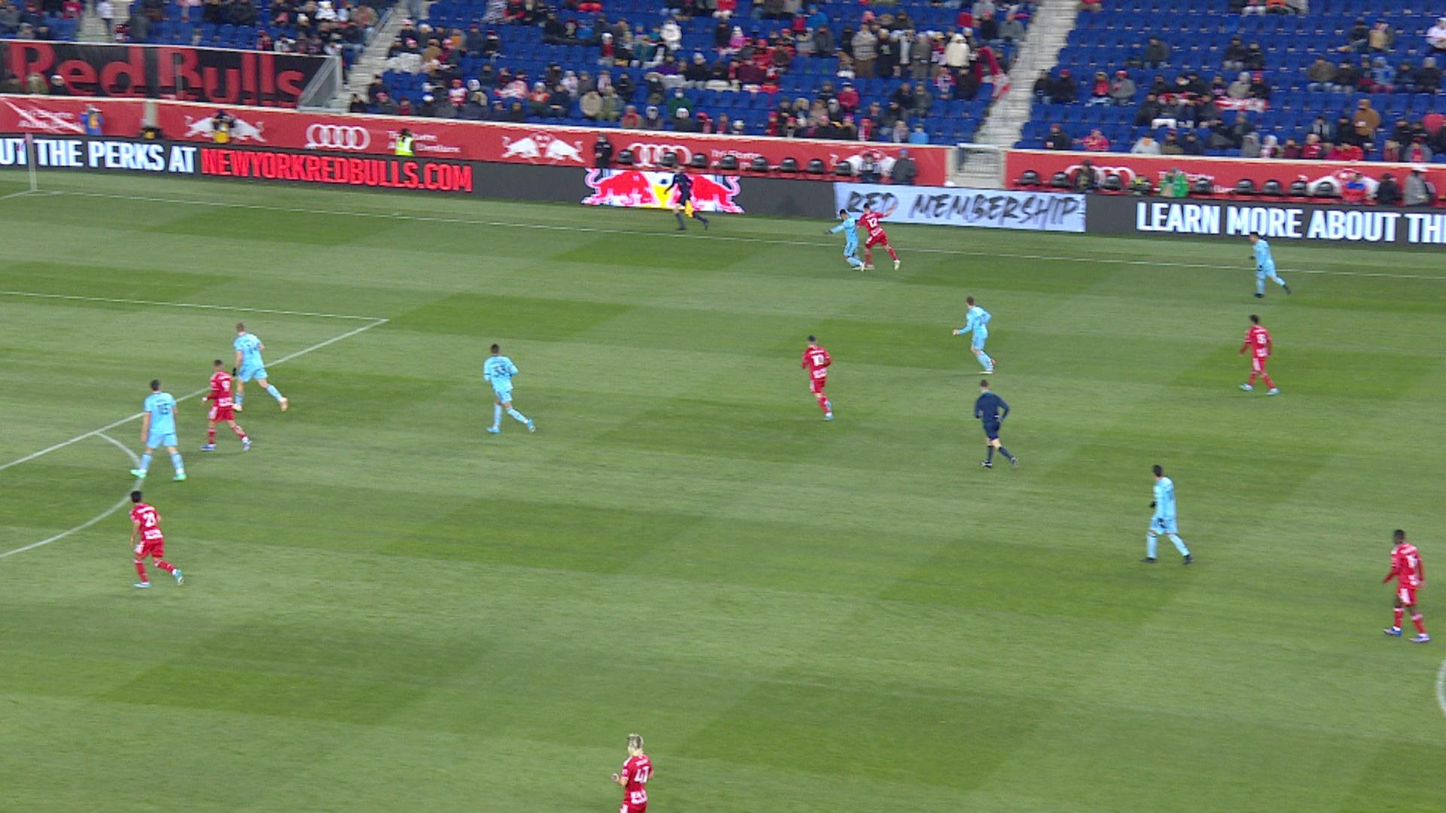Player: (130, 378, 187, 481), (1138, 464, 1194, 564), (1382, 529, 1430, 643), (129, 490, 183, 587), (198, 359, 252, 452), (233, 322, 288, 413), (483, 344, 535, 434), (1238, 315, 1280, 395), (953, 296, 996, 374), (611, 736, 654, 813), (856, 203, 900, 271), (1248, 231, 1291, 297), (801, 335, 834, 420), (825, 209, 866, 273)
referee: (974, 379, 1016, 469), (664, 166, 710, 230)
